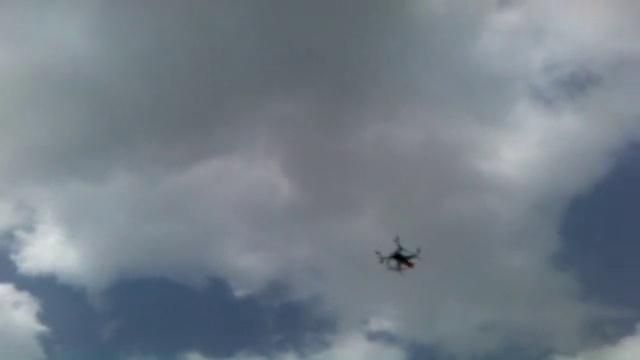drone: (372, 232, 422, 274)
